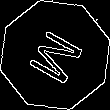M_SE: (22, 22, 88, 88)
